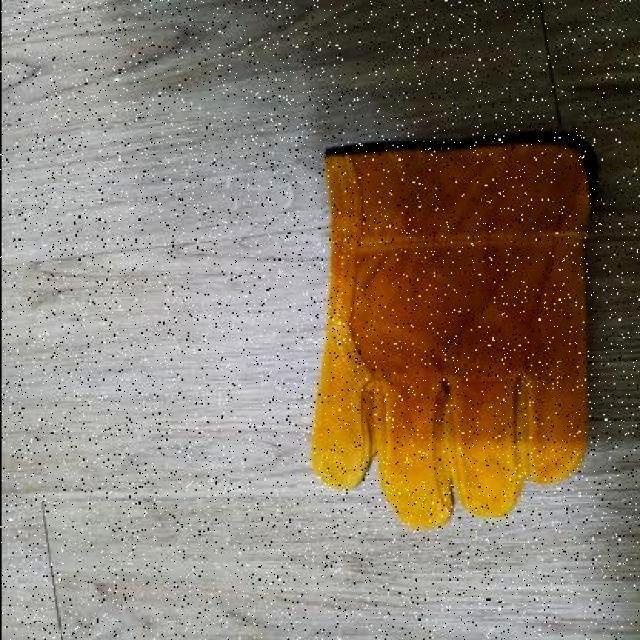Guantes: (308, 133, 593, 530)
